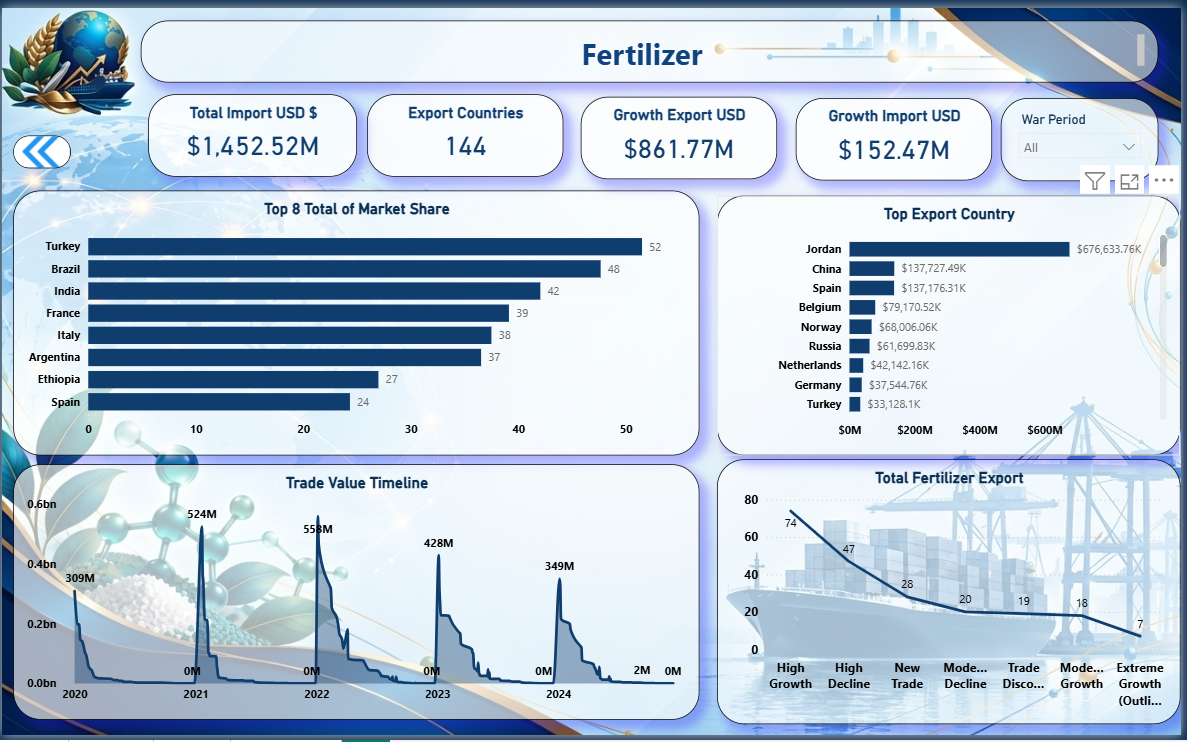

This screenshot's page, from the dashboard's own definition file:
{"tool":"powerbi","page":{"name":"Fertilizer ","canvas":[1291,797],"ordinal":4},"visuals":[{"type":"textbox","box":[151.7,13.3,1115,68.3],"z":0},{"type":"card","title":"Total  Import USD $","fields":{"Values":["Sum(Import Fertilizers.Current Trade Value (USD))"]},"box":[160,95,229,90],"z":0,"group":"g2"},{"type":"clusteredBarChart","title":"Top 8 Total of Market Share","fields":{"Category":["Export Fertilizers.Importer Country"],"Y":["Sum(Export Fertilizers.Market Share )"]},"box":[13,200,752,290],"z":1000},{"type":"slicer","title":"Country Name","fields":{"Values":["Import Fertilizers.War Period"]},"box":[1094,99,173,91],"z":2000},{"type":"card","title":"Growth Export USD","fields":{"Values":["Sum(Export Fertilizers.Growth (USD))"]},"box":[634.4,98,214.8,90.5],"z":3000,"group":"g2"},{"type":"lineChart","title":"Trade Value Timeline","fields":{"Category":["Export Fertilizers.Year.Variation.Date Hierarchy.Year","Export Fertilizers.Year.Variation.Date Hierarchy.Quarter","Export Fertilizers.Year.Variation.Date Hierarchy.Month","Export Fertilizers.Year.Variation.Date Hierarchy.Day"],"Y":["Sum(Export Fertilizers.Current Trade Value (USD))"]},"box":[13,500,752,280],"z":3000},{"type":"card","title":"Export Countries","fields":{"Values":["CountNonNull(Countries.CountryCode)"]},"box":[400,95,215,90],"z":4000},{"type":"image","box":[13,140,63,36],"z":4000,"group":"g1"},{"type":"card","title":"Growth Import USD","fields":{"Values":["Sum(Import Fertilizers.Growth (USD))"]},"box":[870,99,215,90],"z":5000,"group":"g2"},{"type":"lineChart","title":"Total Fertilizer Export ","fields":{"Y":["CountNonNull(Import Fertilizers.War Period)"],"Category":["Import Fertilizers.Growth Category"]},"box":[783,495,508,290],"z":5000},{"type":"clusteredBarChart","title":"Top Export  Country","fields":{"Category":["Import Fertilizers.Exporter Country"],"Y":["Sum(Import Fertilizers.Current Trade Value (USD))"]},"box":[783,205,508,285],"z":6000},{"type":"group","id":"g1","title":"Group 1","box":[13,140,63,36],"z":7000},{"type":"group","id":"g2","title":"Group 2","box":[160,95,925,94],"z":8000}]}

Visuals, with their boxes in screenshot pixels (x1, y1, x2, y2), scaled from the page's 1291x797 canvas onto the 1187x742 screenshot:
textbox: detection(139, 12, 1165, 76)
"Total  Import USD $" card: detection(147, 88, 358, 172)
"Top 8 Total of Market Share" clusteredBarChart: detection(12, 186, 703, 456)
"Country Name" slicer: detection(1006, 92, 1165, 177)
"Growth Export USD" card: detection(583, 91, 781, 175)
"Trade Value Timeline" lineChart: detection(12, 465, 703, 726)
"Export Countries" card: detection(368, 88, 565, 172)
image: detection(12, 130, 70, 164)
"Growth Import USD" card: detection(800, 92, 998, 176)
"Total Fertilizer Export " lineChart: detection(720, 461, 1186, 731)
"Top Export  Country" clusteredBarChart: detection(720, 191, 1186, 456)
"Group 1" group: detection(12, 130, 70, 164)
"Group 2" group: detection(147, 88, 998, 176)
